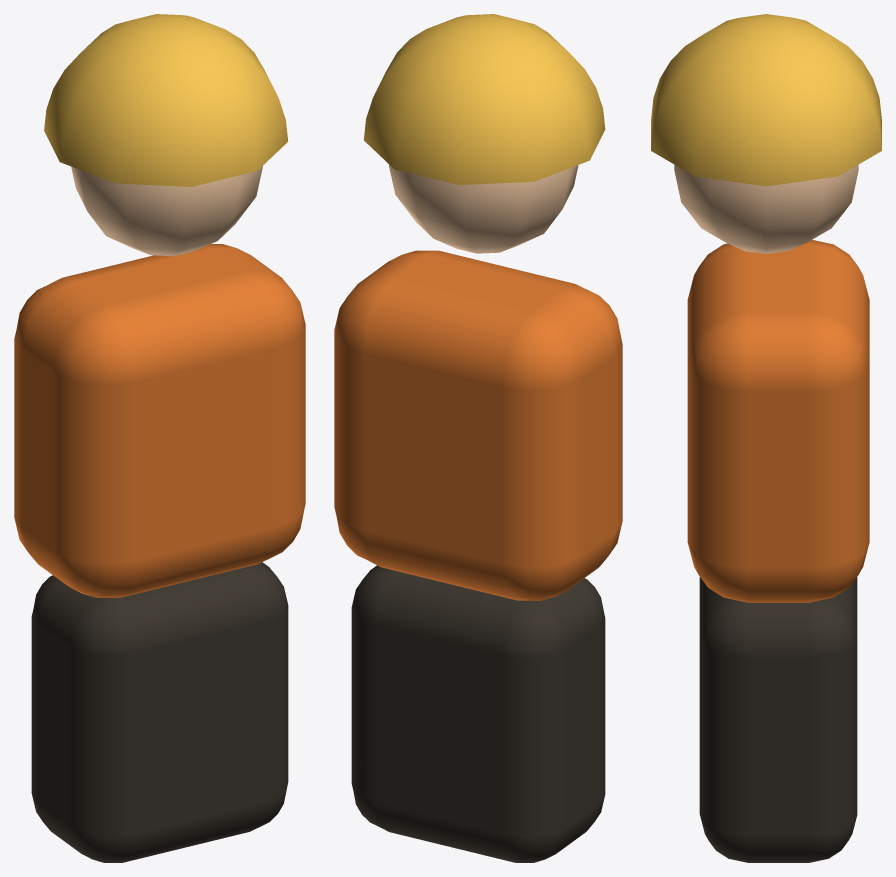
The model's file is planer-hand.glb.
3 renders of one model, left to right at view 1: azimuth 30°, elevation 25°; view 2: azimuth 150°, elevation 25°; view 3: azimuth 270°, elevation 25°, orthographic.
Size of the model in its own units: 0.46 by 1.46 by 0.3804.
